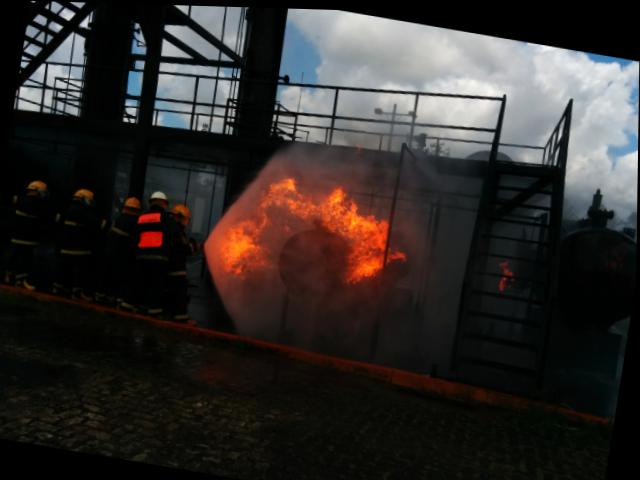fire: (207, 165, 409, 306), (494, 256, 522, 290)
